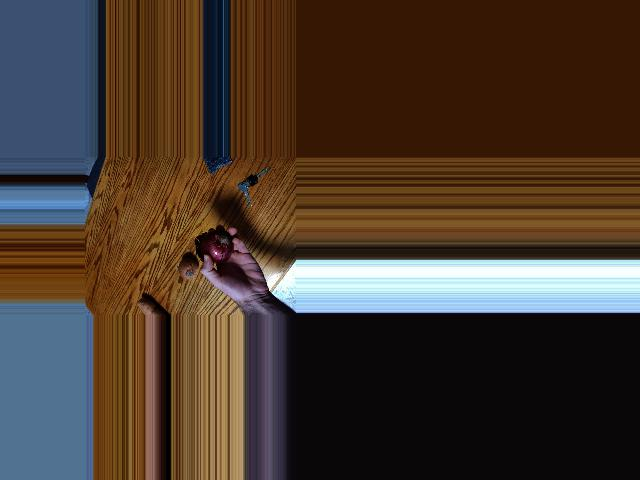onion: (201, 230, 233, 261)
